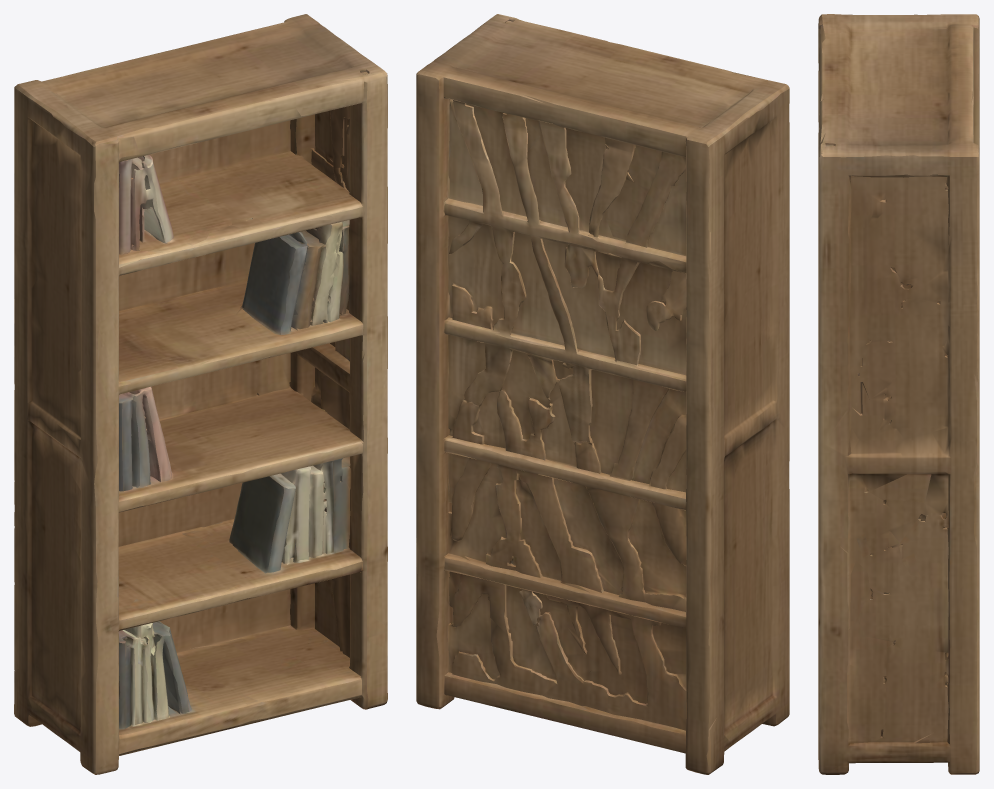
The model's file is L_BOOKSHELF.glb.
3 renders of one model, left to right at view 1: azimuth 30°, elevation 25°; view 2: azimuth 150°, elevation 25°; view 3: azimuth 270°, elevation 25°, orthographic.
Visible parts, largest first — view 1: world; view 2: world; view 3: world.
Part boxes in pixels (x1,y1,x2,y2): world: [14, 14, 387, 774]; world: [416, 14, 789, 774]; world: [818, 14, 979, 774].
Bounding box in the file's own units: 0.8787 × 1.8 × 0.4237.
1 material, 1 textured.
